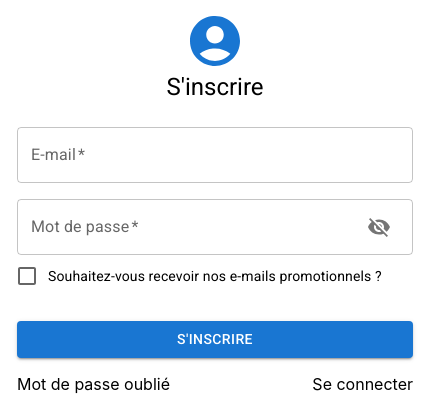
Scenario: SignUp Component › disable the button when fetching
The image size is (431, 411).
Step 1. Type "test@example.com" into the field labelled "E-mail *" → (215,155), box [17,127,413,183]
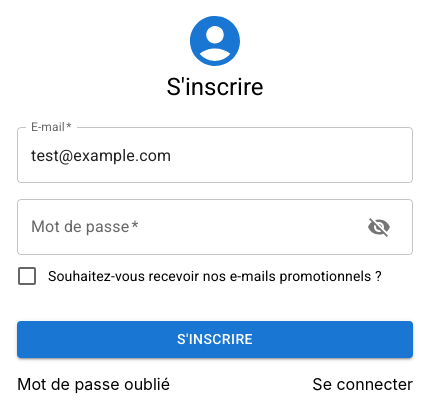
Step 2. Type "Valid@1234" into the password field labelled "Mot de passe *" → (184,227), box [17,199,351,255]
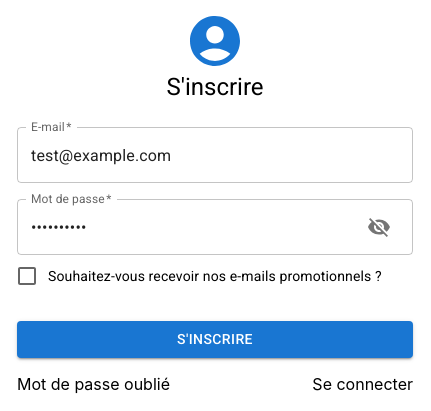
Step 3. Click the button "S'inscrire" → (215,339), box [17,321,413,358]
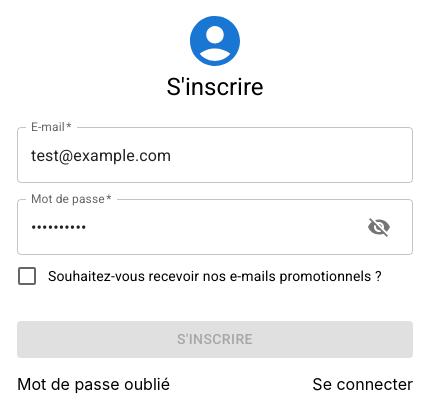
Now the button "S'inscrire" is disabled, box [17,321,413,358]
